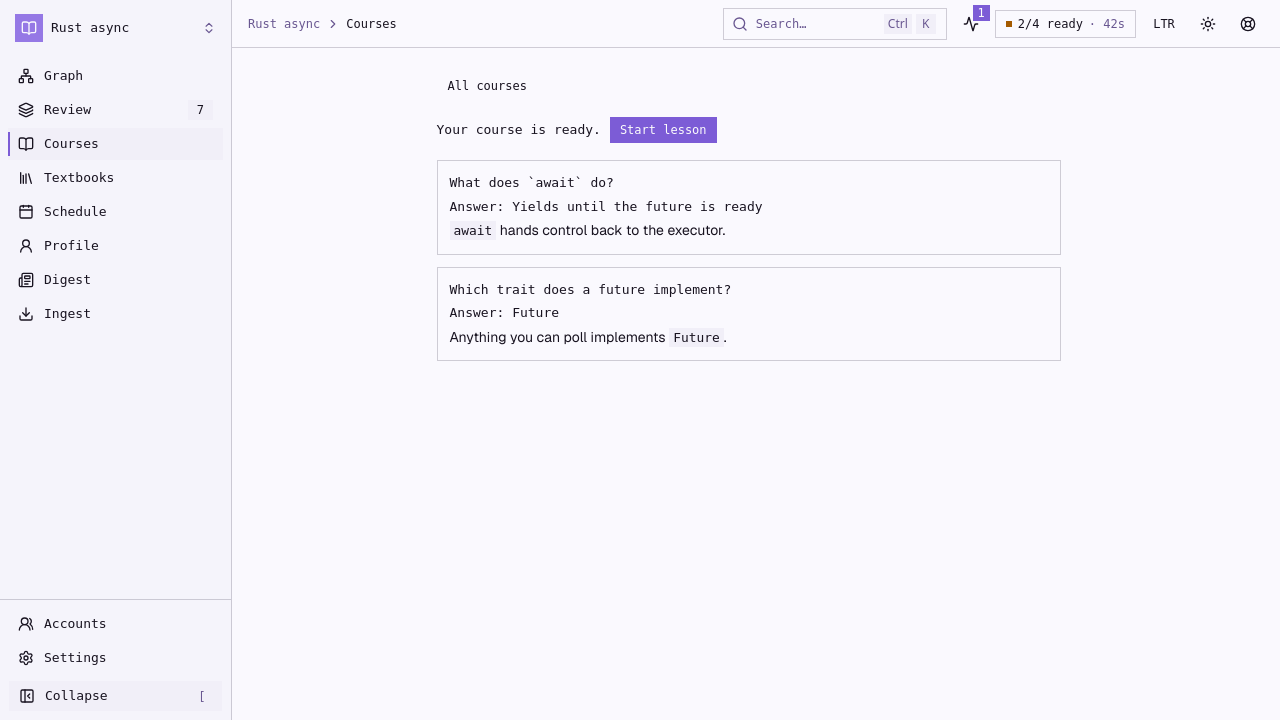
Test case: Course screen › sends one request for two rapid clicks on a grade
Click the button "Start lesson" at (663, 130), box [609,116,718,144]
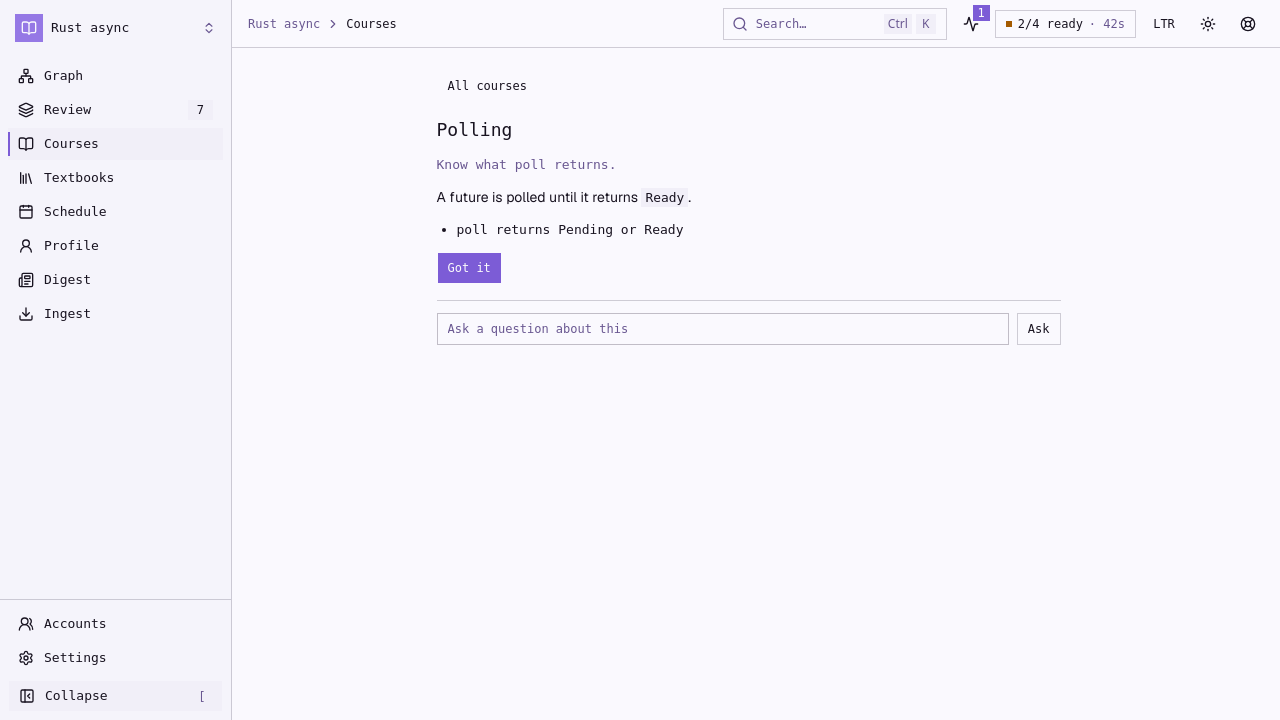
Click the button "Got it" at (469, 268), box [436,252,502,284]
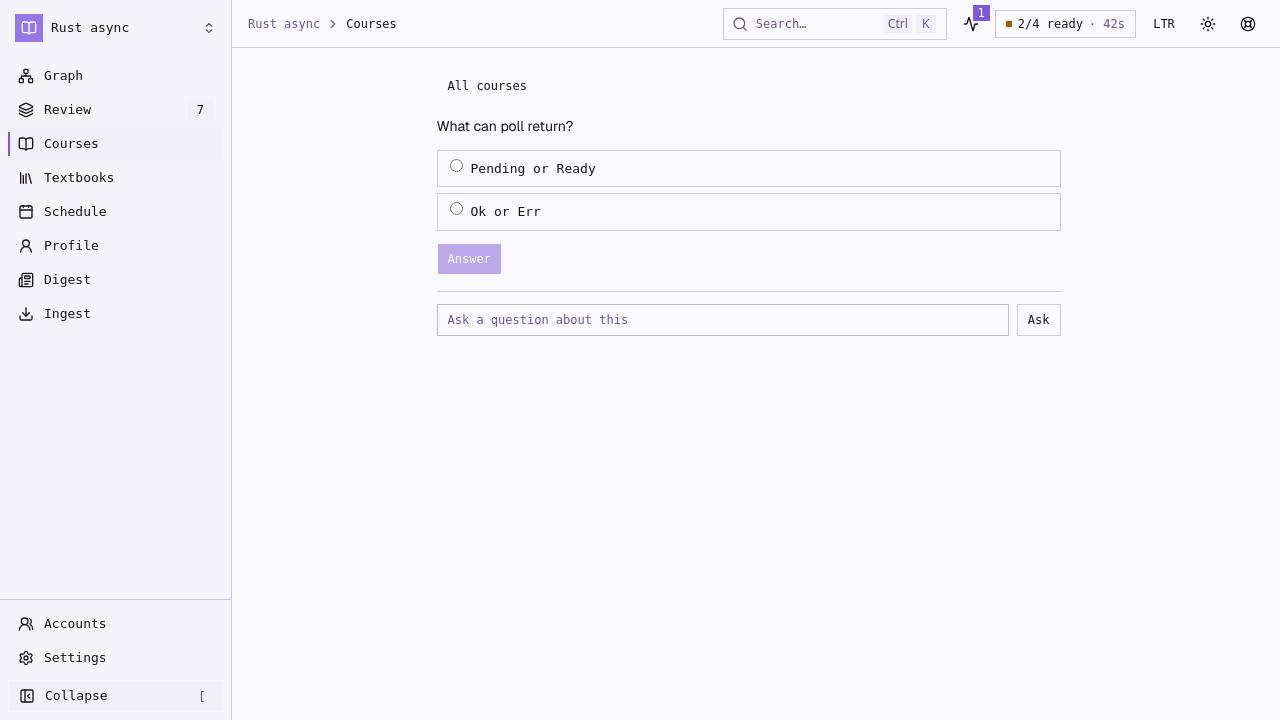
Click the radio button labelled "Pending or Ready" at (456, 165), box [450,159,462,172]
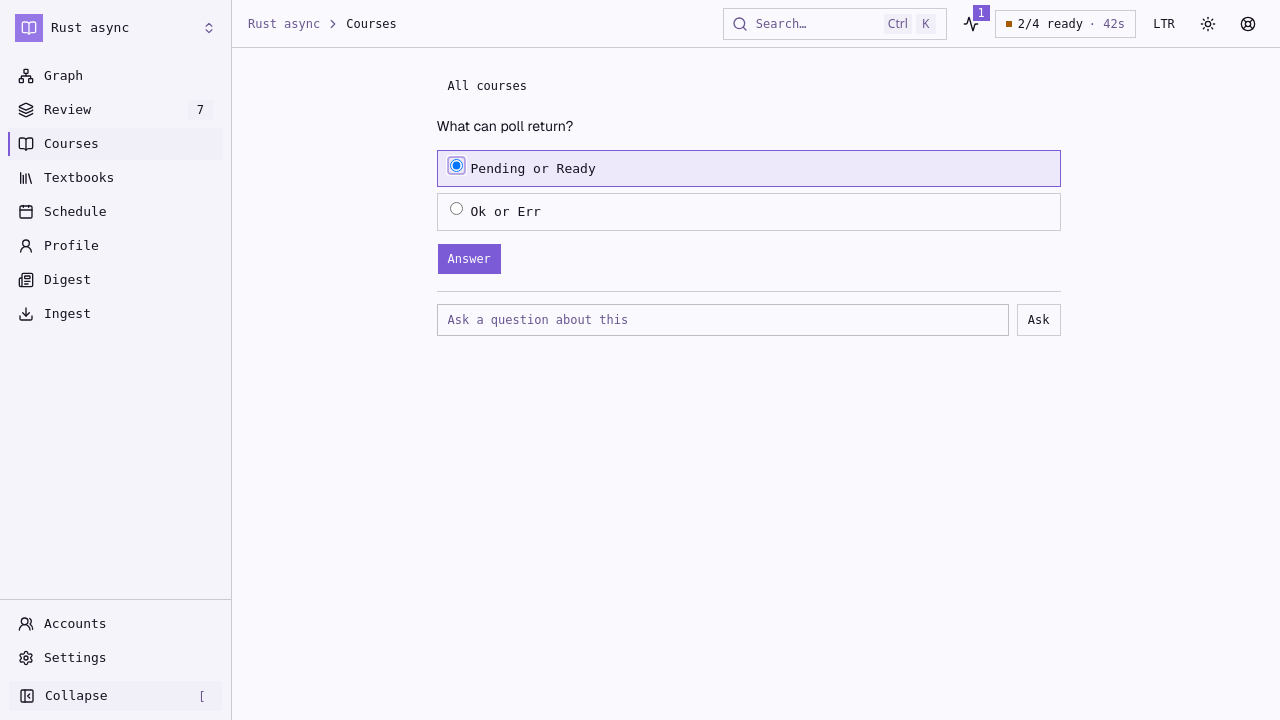
Click the button "Answer" at (469, 259), box [436,243,502,275]
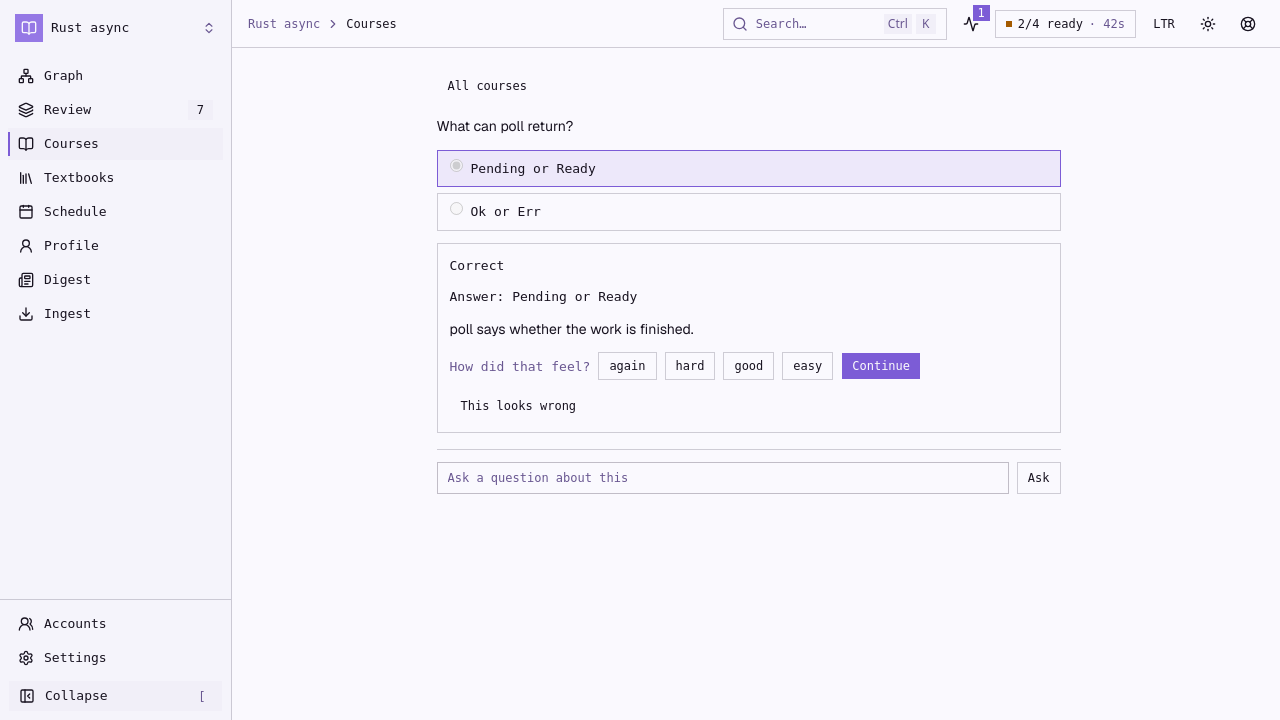
Double-click the button "good" at (749, 366), box [723,352,774,380]
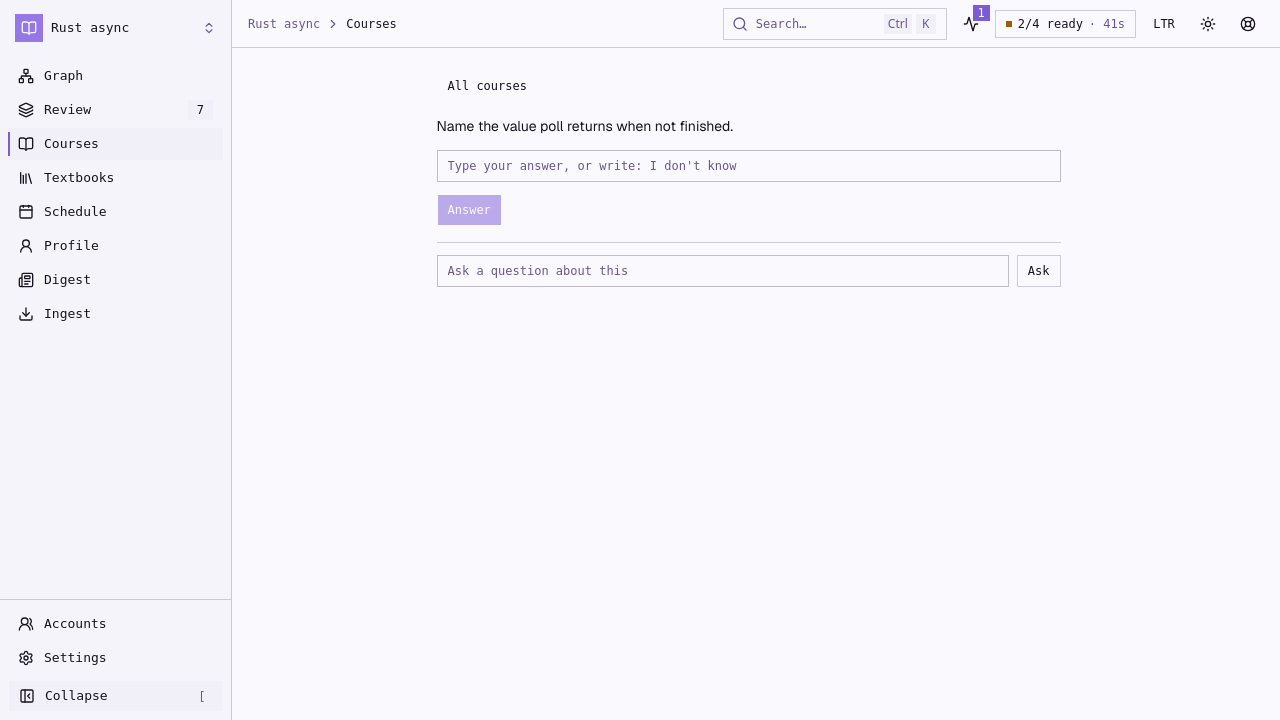
Result: the text "Name the value poll returns when not finished." is shown at [436,117,733,135]
